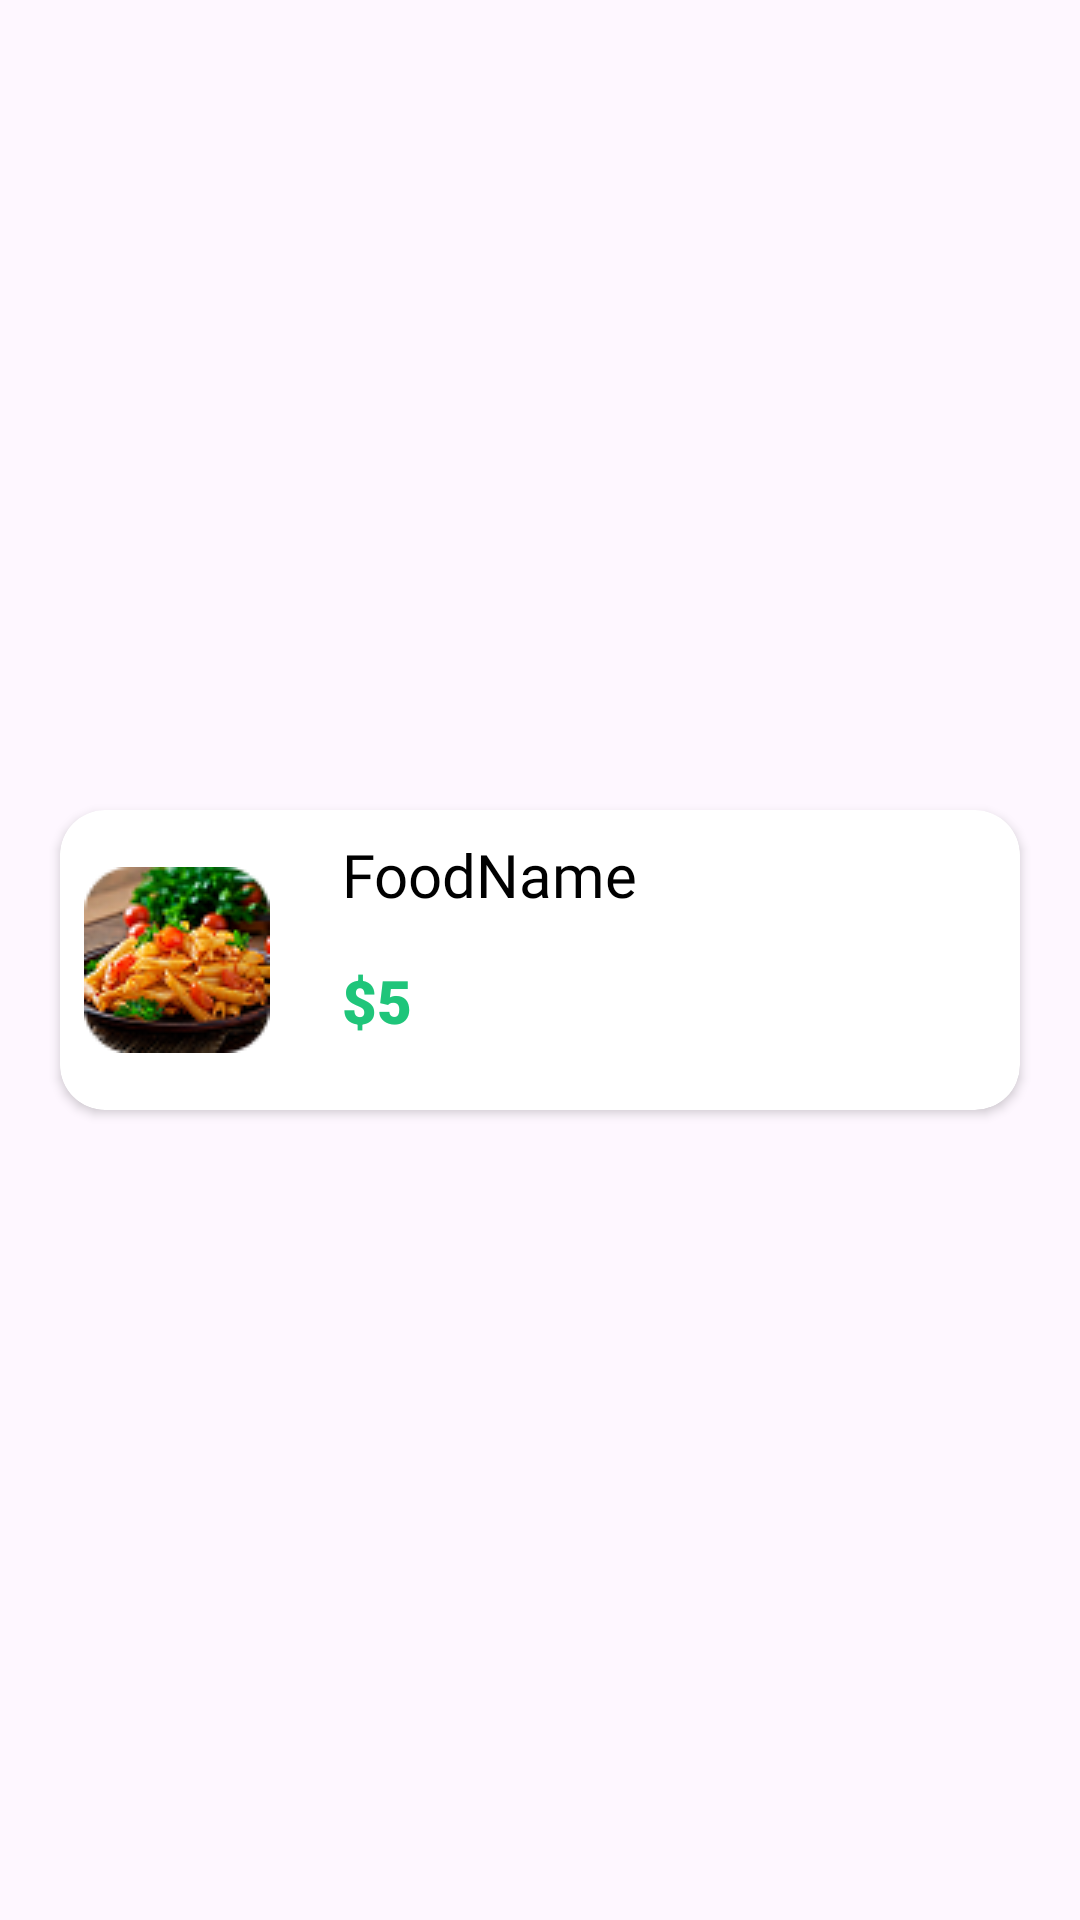

Locate icon controls on the screen. Image size 1080×1920, boxes as (x1, y1, x2, y2).
photo: (84, 867, 270, 1053)
